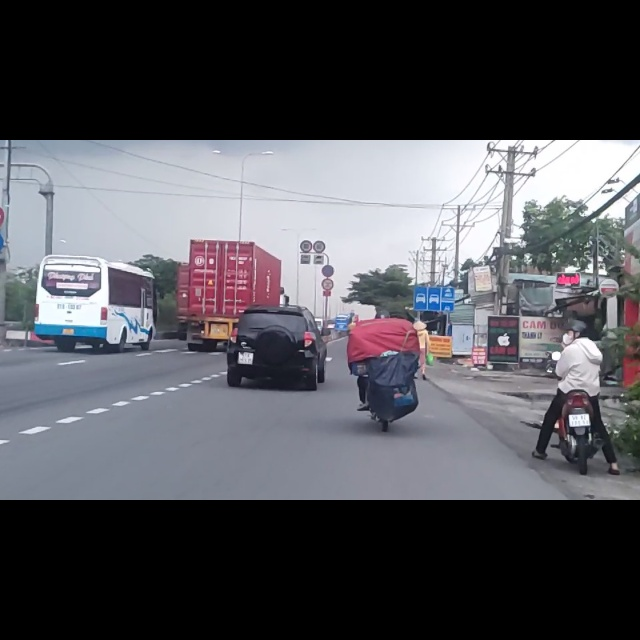bien_cam: (413, 258, 455, 306), (321, 220, 335, 244)
